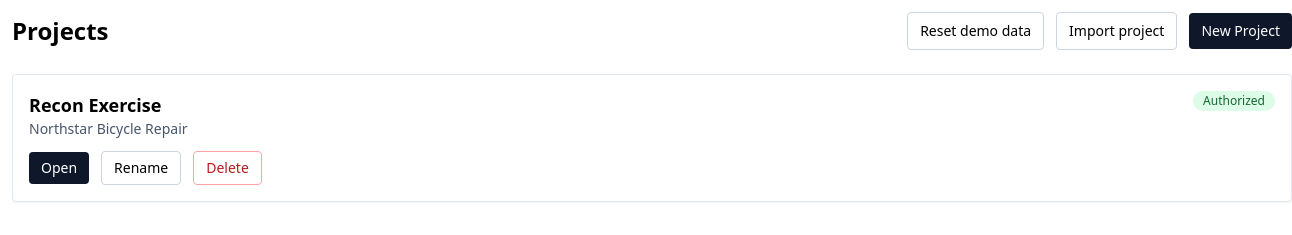
Test: ProjectsScreen › requires confirmation before deleting a project
Click the button "Delete".
click(228, 168)  # box [193,151,262,185]
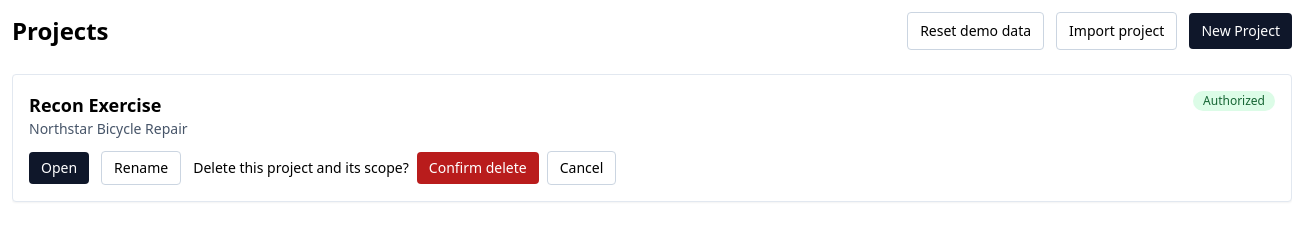
Expected: the heading "Recon Exercise" is shown, [29,93,161,117]
Result: the text "Delete this project and its scope? Confirm delete Cancel" is shown at [193,151,616,185]
Click the button "Confirm delete".
click(478, 168)  # box [417,152,539,184]
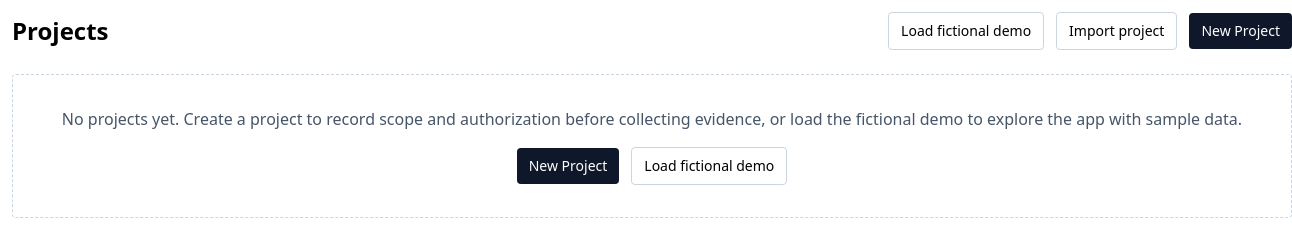
Result: the text "No projects yet" is shown at [62,108,1242,130]
